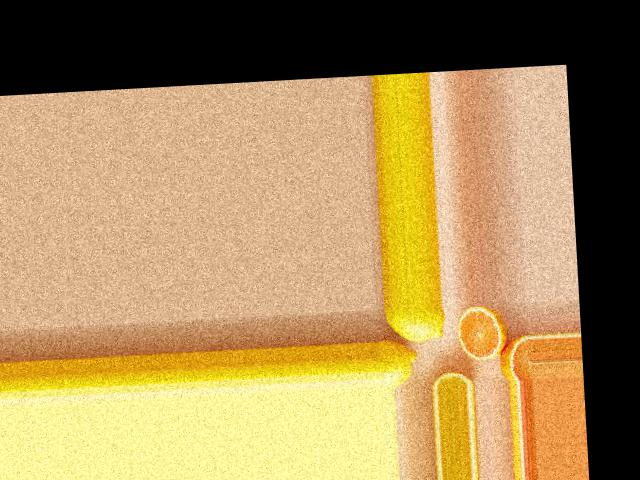lemon: (376, 336, 422, 387)
